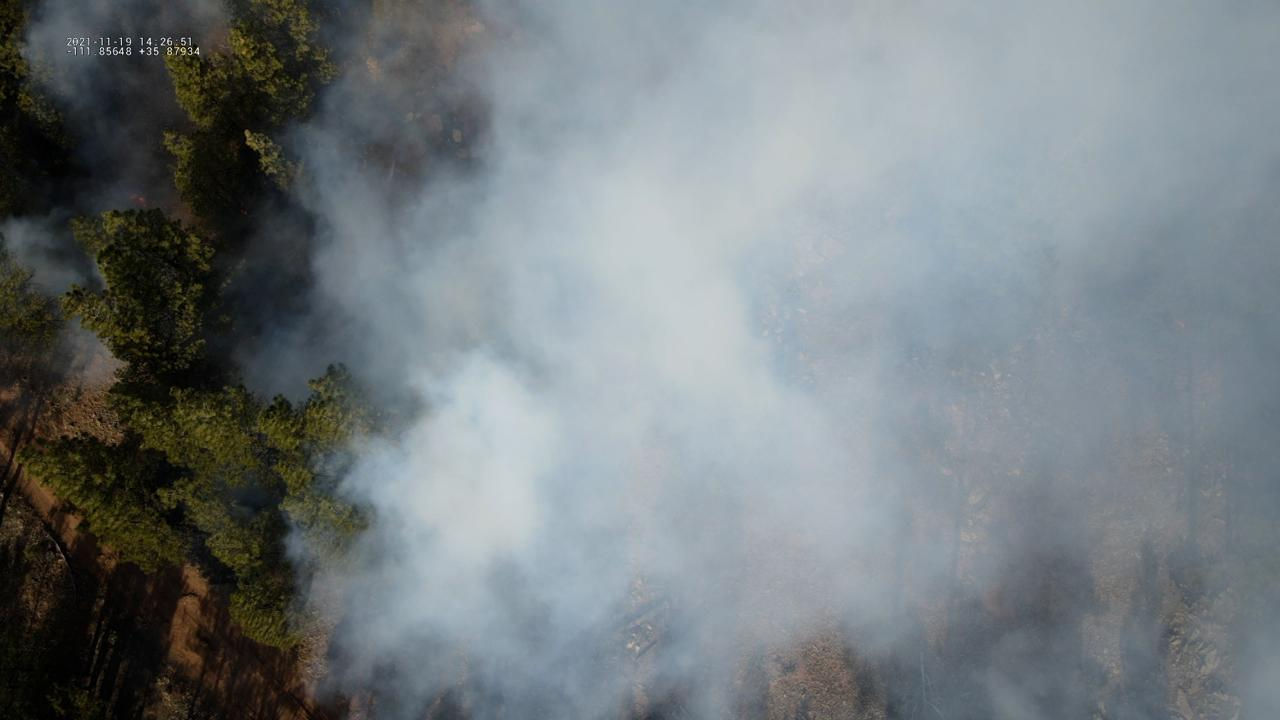fire: (128, 192, 149, 207)
smoke: (228, 0, 1280, 720), (0, 0, 227, 379)
